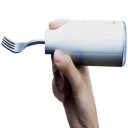Fork: (1, 29, 47, 57)
